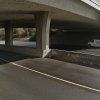Bridge: (9, 1, 95, 49)
